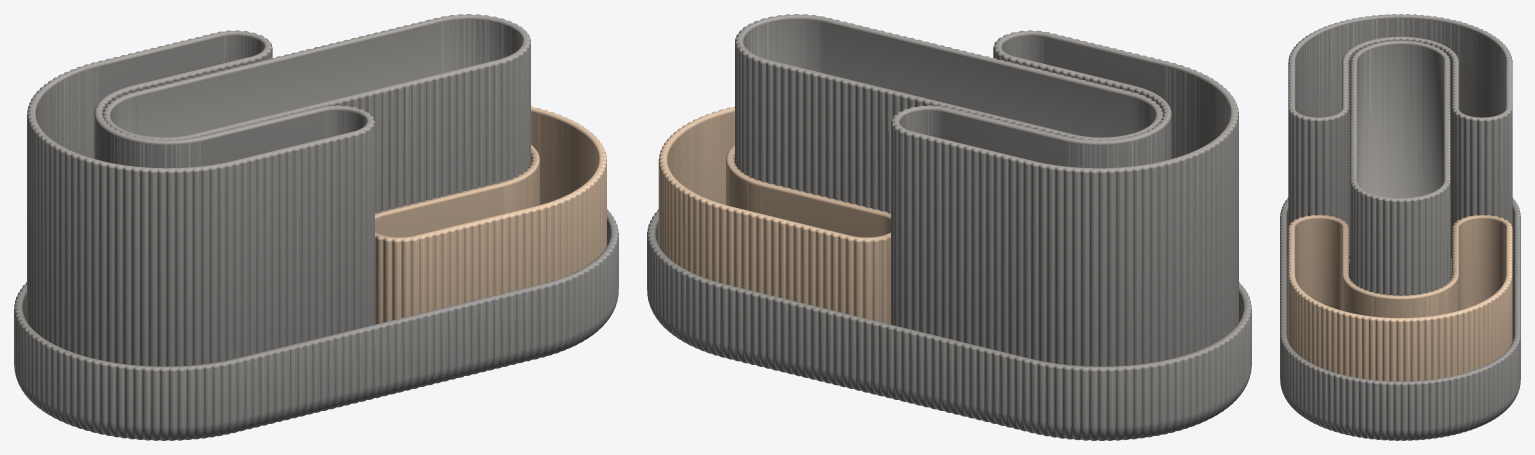
The model's file is defter-tutucu.glb.
The picture shows the model from 3 angles, left to right: view 1: azimuth 30°, elevation 25°; view 2: azimuth 150°, elevation 25°; view 3: azimuth 270°, elevation 25°; orthographic projection. The views are drawn at different scales.
Parts seen in each view (by area): view 1: Insert1, Taban, Insert3; view 2: Insert1, Taban, Insert3; view 3: Taban, Insert3, Insert1.
Boxes of the visible parts, left/top/right/bottom form: Insert1: left=27, top=30, right=374, bottom=366; Taban: left=14, top=14, right=618, bottom=440; Insert3: left=375, top=106, right=606, bottom=324; Insert1: left=891, top=30, right=1238, bottom=366; Taban: left=647, top=14, right=1251, bottom=440; Insert3: left=658, top=106, right=890, bottom=324; Taban: left=1280, top=40, right=1520, bottom=440; Insert3: left=1288, top=214, right=1512, bottom=381; Insert1: left=1288, top=14, right=1512, bottom=258.
Size of the model in its own units: 0.223 by 0.102 by 0.103.
